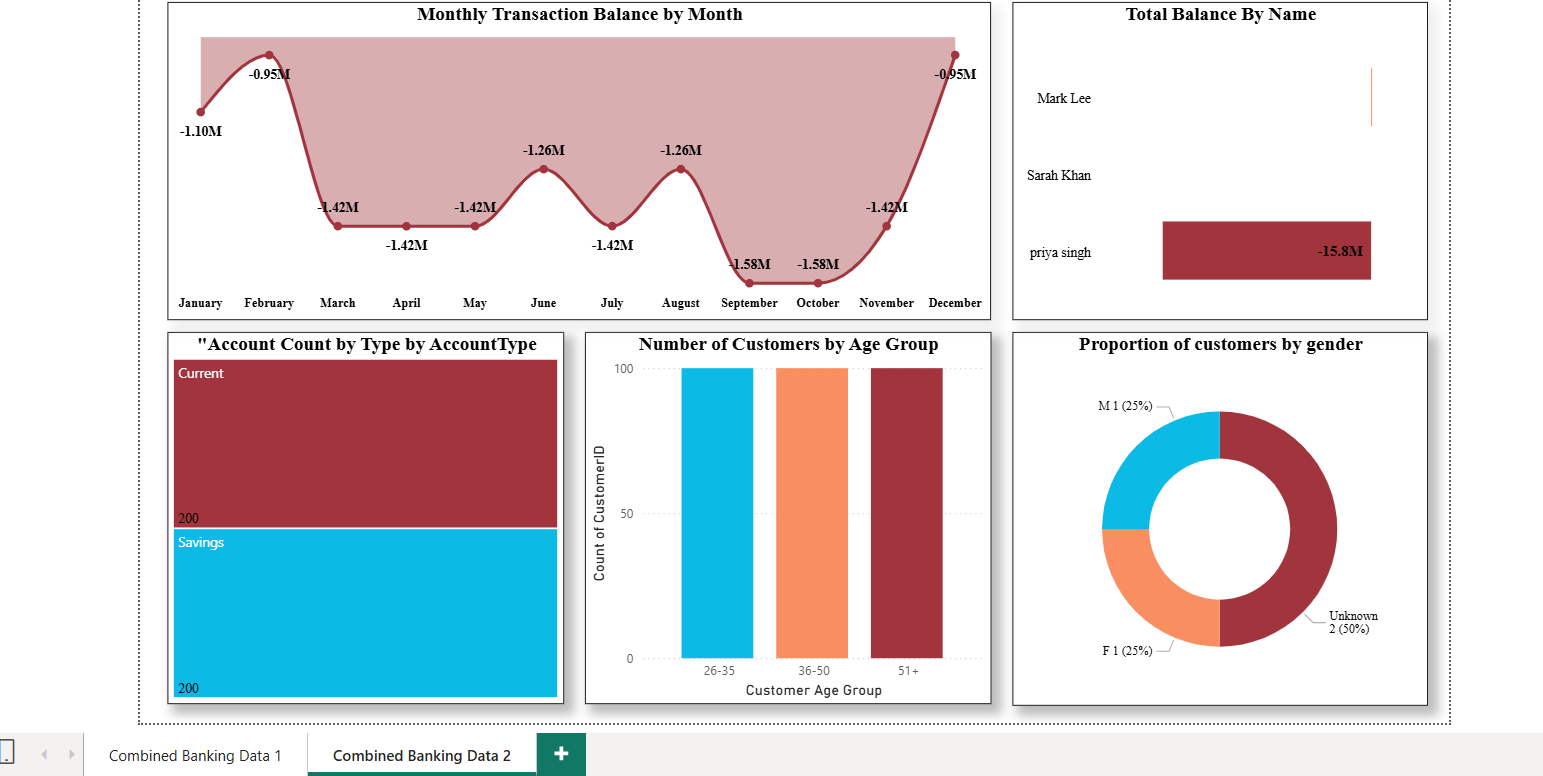

This screenshot's page, from the dashboard's own definition file:
{"tool":"powerbi","page":{"name":"Combined Banking Data 2","canvas":[1280,720],"ordinal":1},"visuals":[{"type":"donutChart","title":"Proportion of customers by gender","fields":{"Y":["Measures Table.Customer Count by Gender"],"Category":["CombinedBankingDataset.Gender"]},"box":[853.9,337.8,406.1,365.6],"z":0},{"type":"columnChart","title":"Number of Customers by Age Group","fields":{"Category":["CombinedBankingDataset.Customer Age Group"],"Y":["CountNonNull(CombinedBankingDataset.CustomerID)"]},"box":[435.2,337.8,397.2,364.3],"z":1},{"type":"treemap","fields":{"Values":["Measures Table.\"Account Count by Type"],"Group":["CombinedBankingDataset.AccountType"]},"box":[26.6,337.8,388.4,364.3],"z":2},{"type":"barChart","title":"Total Balance By Name","fields":{"Category":["CombinedBankingDataset.Name"],"Y":["Sum(CombinedBankingDataset.Balance)"]},"box":[853.9,15.2,406.1,311.2],"z":3},{"type":"areaChart","fields":{"Category":["CombinedBankingDataset.TransactionDate.Variation.Date Hierarchy.Month"],"Y":["Measures Table.Monthly Transaction Balance"]},"box":[26.6,15.2,805.9,311.2],"z":4}]}

Visuals, with their boxes in screenshot pixels (x1, y1, x2, y2):
"Proportion of customers by gender" donutChart: <region>1011, 330, 1428, 705</region>
"Number of Customers by Age Group" columnChart: <region>583, 330, 989, 703</region>
treemap - Measures Table."Account Count by Type x CombinedBankingDataset.AccountType: <region>164, 330, 562, 703</region>
"Total Balance By Name" barChart: <region>1011, 0, 1428, 318</region>
areaChart - CombinedBankingDataset.TransactionDate.Variation.Date Hierarchy.Month x Measures Table.Monthly Transaction Balance: <region>164, 0, 990, 318</region>
